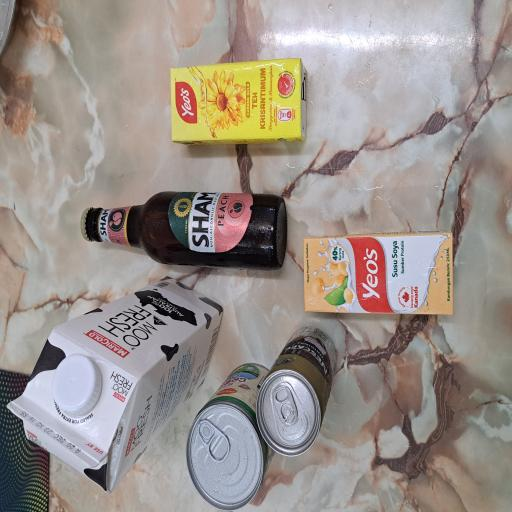can: (0, 249, 112, 370), (42, 340, 138, 448)
drink carton: (14, 8, 171, 298), (277, 222, 342, 412), (146, 401, 208, 512)
glass bottle: (181, 110, 240, 384)
plastic bottle cap: (71, 69, 119, 140)
pop tab: (38, 259, 69, 309), (64, 360, 98, 398)
